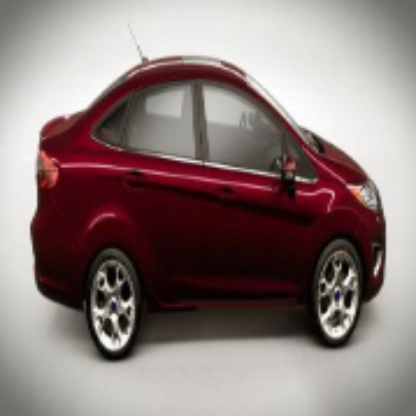Vehicle: (30, 22, 388, 359)
